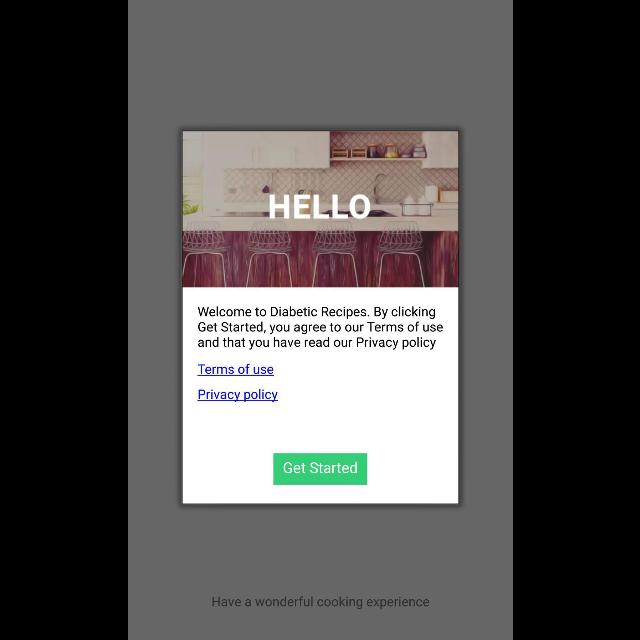image: (182, 132, 458, 288)
panel: (182, 132, 458, 504)
text: (198, 306, 442, 349), (268, 195, 369, 219), (197, 390, 277, 402), (196, 364, 274, 376)
textbutton: (273, 453, 367, 485)
